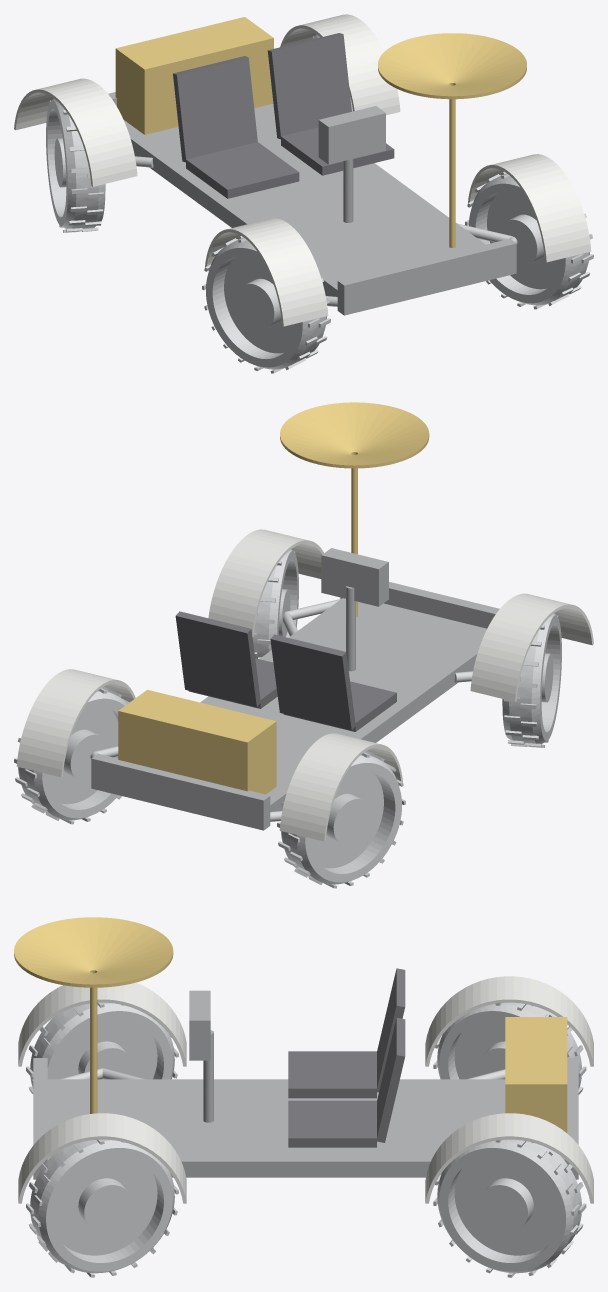
Rendered from rover02_lrv_steer_left.glb.
3 views of the same model, one above another, from view 1: azimuth 30°, elevation 25°; view 2: azimuth 150°, elevation 25°; view 3: azimuth 270°, elevation 25° (orthographic). The views are drawn at different scales.
Parts seen in each view (by area): view 1: chassis, fenders, seats, tool_pallet, wheel_3, hga_umbrella, wheel_1, wheel_4, console, suspension_arms; view 2: chassis, fenders, seats, tool_pallet, wheel_4, hga_umbrella, wheel_2, wheel_3, console, wheel_1, suspension_arms; view 3: chassis, fenders, wheel_1, wheel_2, seats, hga_umbrella, wheel_3, tool_pallet, wheel_4, console, suspension_arms.
Part boxes in pixels (bbox=[...]): chassis: bbox=[108, 92, 516, 315]; fenders: bbox=[14, 14, 591, 326]; seats: bbox=[173, 33, 394, 198]; tool_pallet: bbox=[115, 17, 273, 134]; wheel_3: bbox=[202, 236, 330, 373]; hga_umbrella: bbox=[378, 33, 526, 247]; wheel_1: bbox=[465, 171, 593, 309]; wheel_4: bbox=[46, 99, 105, 232]; console: bbox=[318, 106, 385, 222]; suspension_arms: bbox=[135, 156, 517, 306]; chassis: bbox=[91, 582, 499, 830]; fenders: bbox=[16, 529, 593, 841]; seats: bbox=[175, 611, 396, 731]; tool_pallet: bbox=[118, 689, 276, 794]; wheel_4: bbox=[277, 751, 405, 888]; hga_umbrella: bbox=[280, 402, 429, 616]; wheel_2: bbox=[14, 686, 129, 824]; wheel_3: bbox=[502, 614, 561, 747]; console: bbox=[321, 548, 388, 671]; wheel_1: bbox=[252, 549, 298, 658]; suspension_arms: bbox=[90, 599, 472, 821]; chassis: bbox=[33, 1058, 578, 1179]; fenders: bbox=[18, 976, 593, 1203]; wheel_1: bbox=[26, 1139, 178, 1277]; wheel_2: bbox=[433, 1139, 586, 1277]; seats: bbox=[288, 968, 405, 1147]; hga_umbrella: bbox=[14, 917, 173, 1113]; wheel_3: bbox=[26, 1002, 178, 1094]; tool_pallet: bbox=[505, 1017, 567, 1132]; wheel_4: bbox=[433, 1002, 586, 1094]; console: bbox=[189, 990, 213, 1122]; suspension_arms: bbox=[60, 1068, 505, 1079].
Size of the model in its own units: 2.31 by 1.72 by 3.28.
